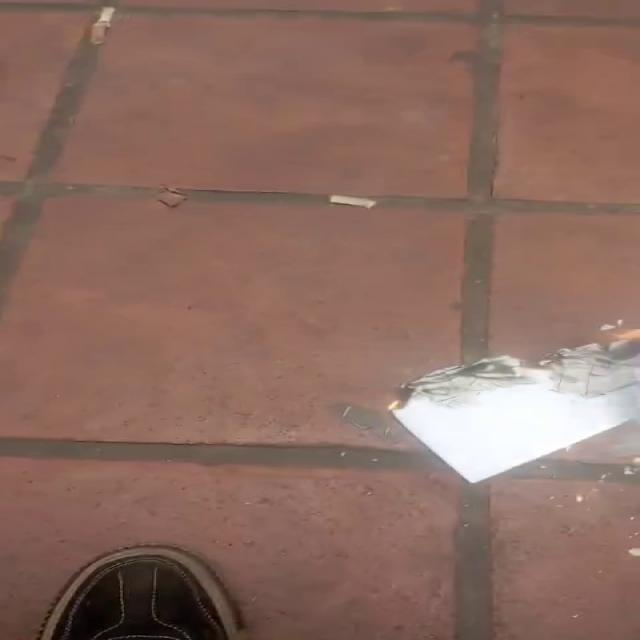Fire_Dangerous: (604, 311, 640, 336)
